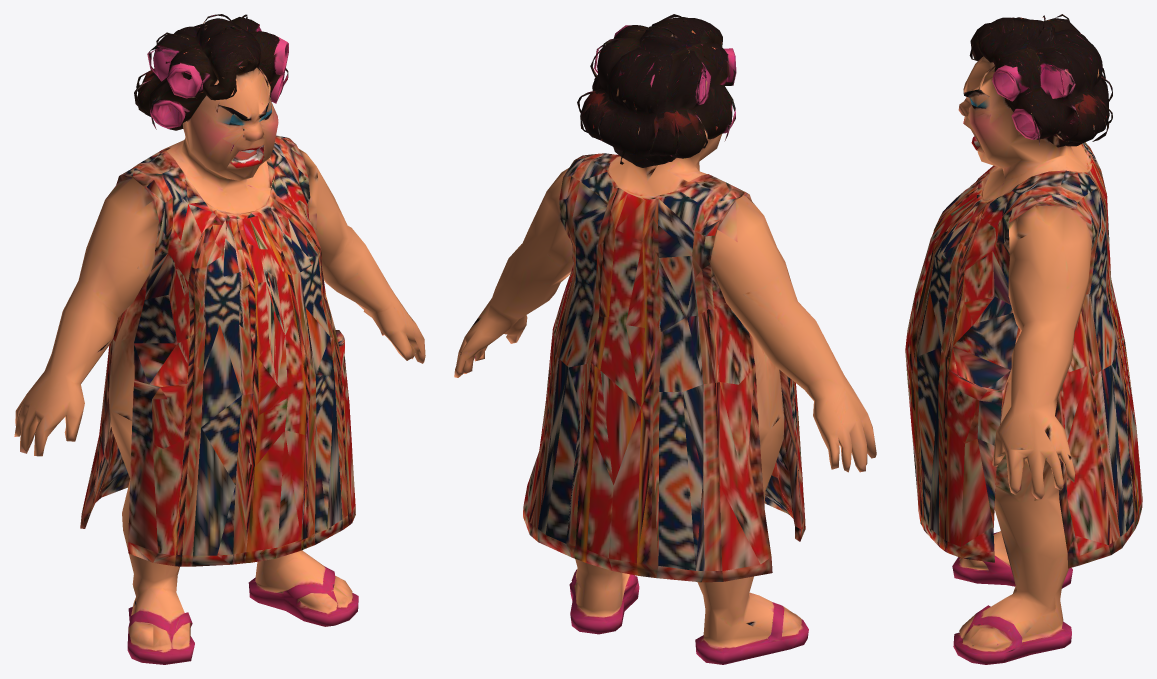
File: nanay.glb
3 renders of one model, left to right at view 1: azimuth 30°, elevation 25°; view 2: azimuth 150°, elevation 25°; view 3: azimuth 270°, elevation 25°, orthographic. The views are drawn at different scales.
Parts seen in each view (by area): view 1: Mesh0; view 2: Mesh0; view 3: Mesh0.
Boxes of the visible parts, bbox=[...] form: Mesh0: bbox=[14, 14, 425, 664]; Mesh0: bbox=[454, 14, 876, 664]; Mesh0: bbox=[905, 14, 1142, 664].
Bounding box in the file's own units: 1.18 × 1.7 × 0.6156.
1 material, 1 textured.
